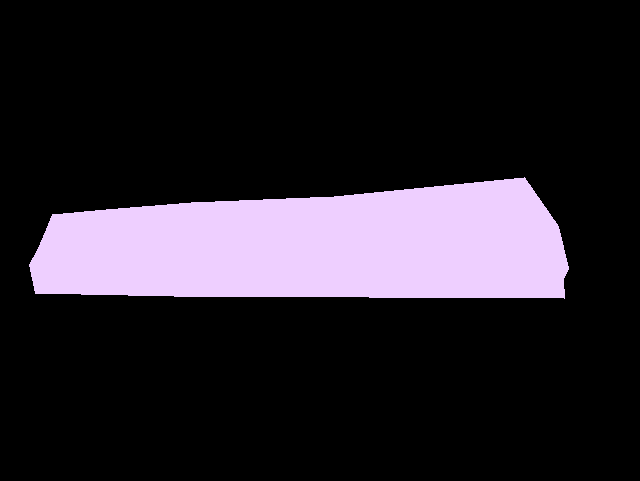Train: (29, 177, 569, 299)
